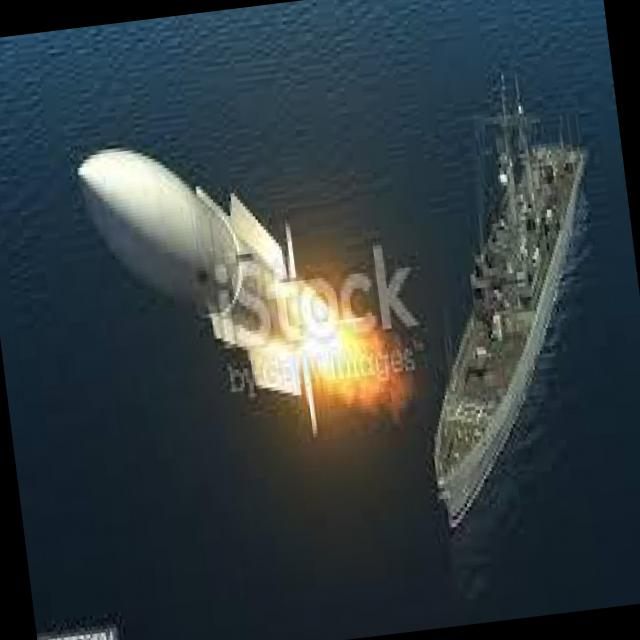rocket: (71, 110, 402, 444)
